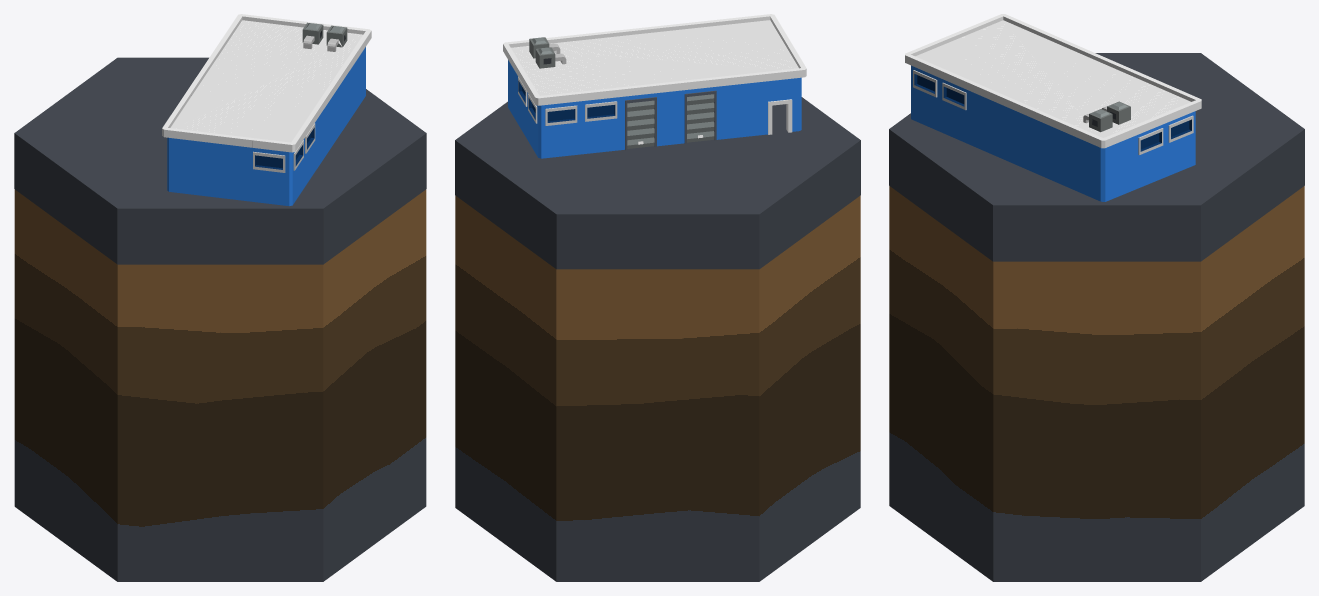
Rendered from HexTileHomeBase_1.glb.
3 views of the same model, side by side, from view 1: azimuth 30°, elevation 25°; view 2: azimuth 150°, elevation 25°; view 3: azimuth 270°, elevation 25° (orthographic). The views are drawn at different scales.
Visible parts, largest first — view 1: mergedBlocks.001; view 2: mergedBlocks.001; view 3: mergedBlocks.001.
Boxes of the visible parts, x1,y1,x2,y2 form: mergedBlocks.001: (14,14,426,581); mergedBlocks.001: (455,14,860,581); mergedBlocks.001: (889,14,1304,581).
Bounding box in the file's own units: 3.46 × 4.8 × 4.
Materials: 1 (1 with a texture image).
